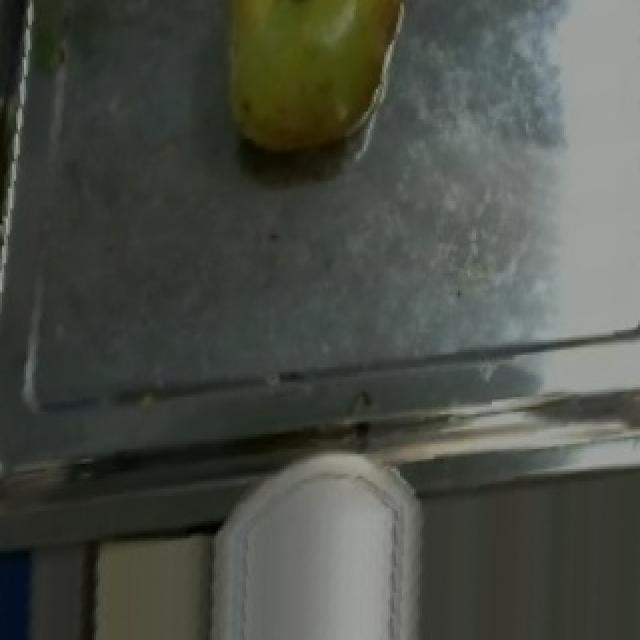fruit: (190, 0, 438, 176)
